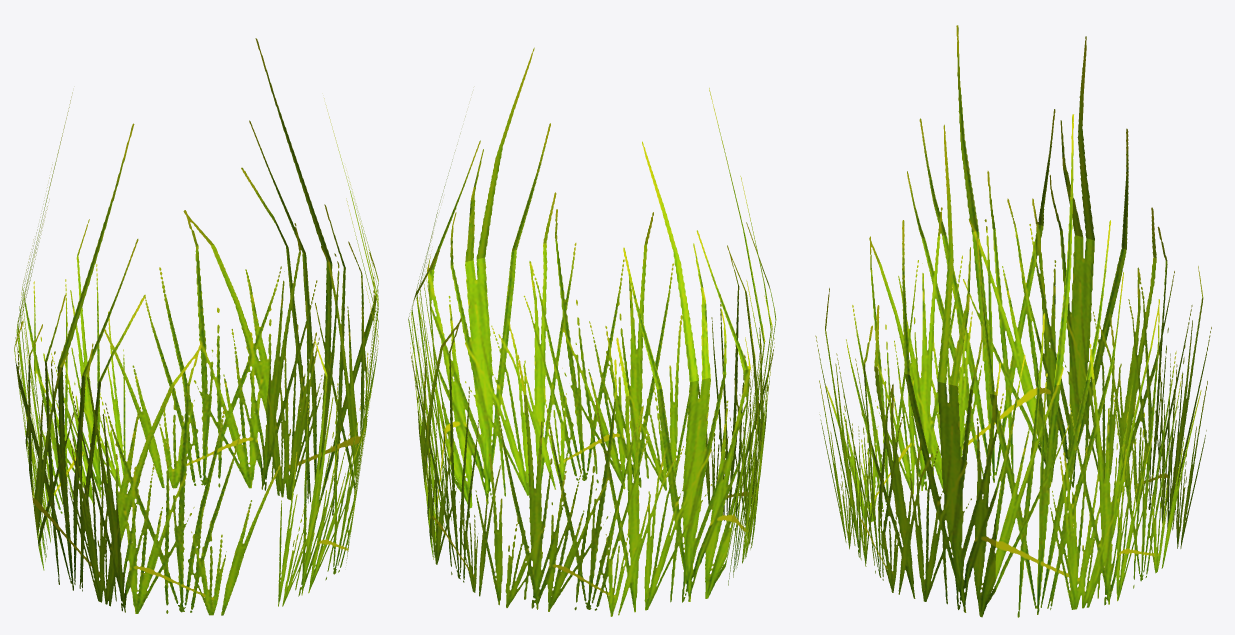
Rendered from grass_clump_a.gltf.
3 views of the same model, side by side, from view 1: azimuth 30°, elevation 25°; view 2: azimuth 150°, elevation 25°; view 3: azimuth 270°, elevation 25° (orthographic). The views are drawn at different scales.
Visible parts, largest first — view 1: Plane.001; view 2: Plane.001; view 3: Plane.001.
Boxes of the visible parts, x1,y1,x2,y2 form: Plane.001: (14,38,378,615); Plane.001: (408,47,776,616); Plane.001: (815,25,1211,617).
Size of the model in its own units: 0.4446 by 0.5799 by 0.4543.
1 material, 1 textured.
